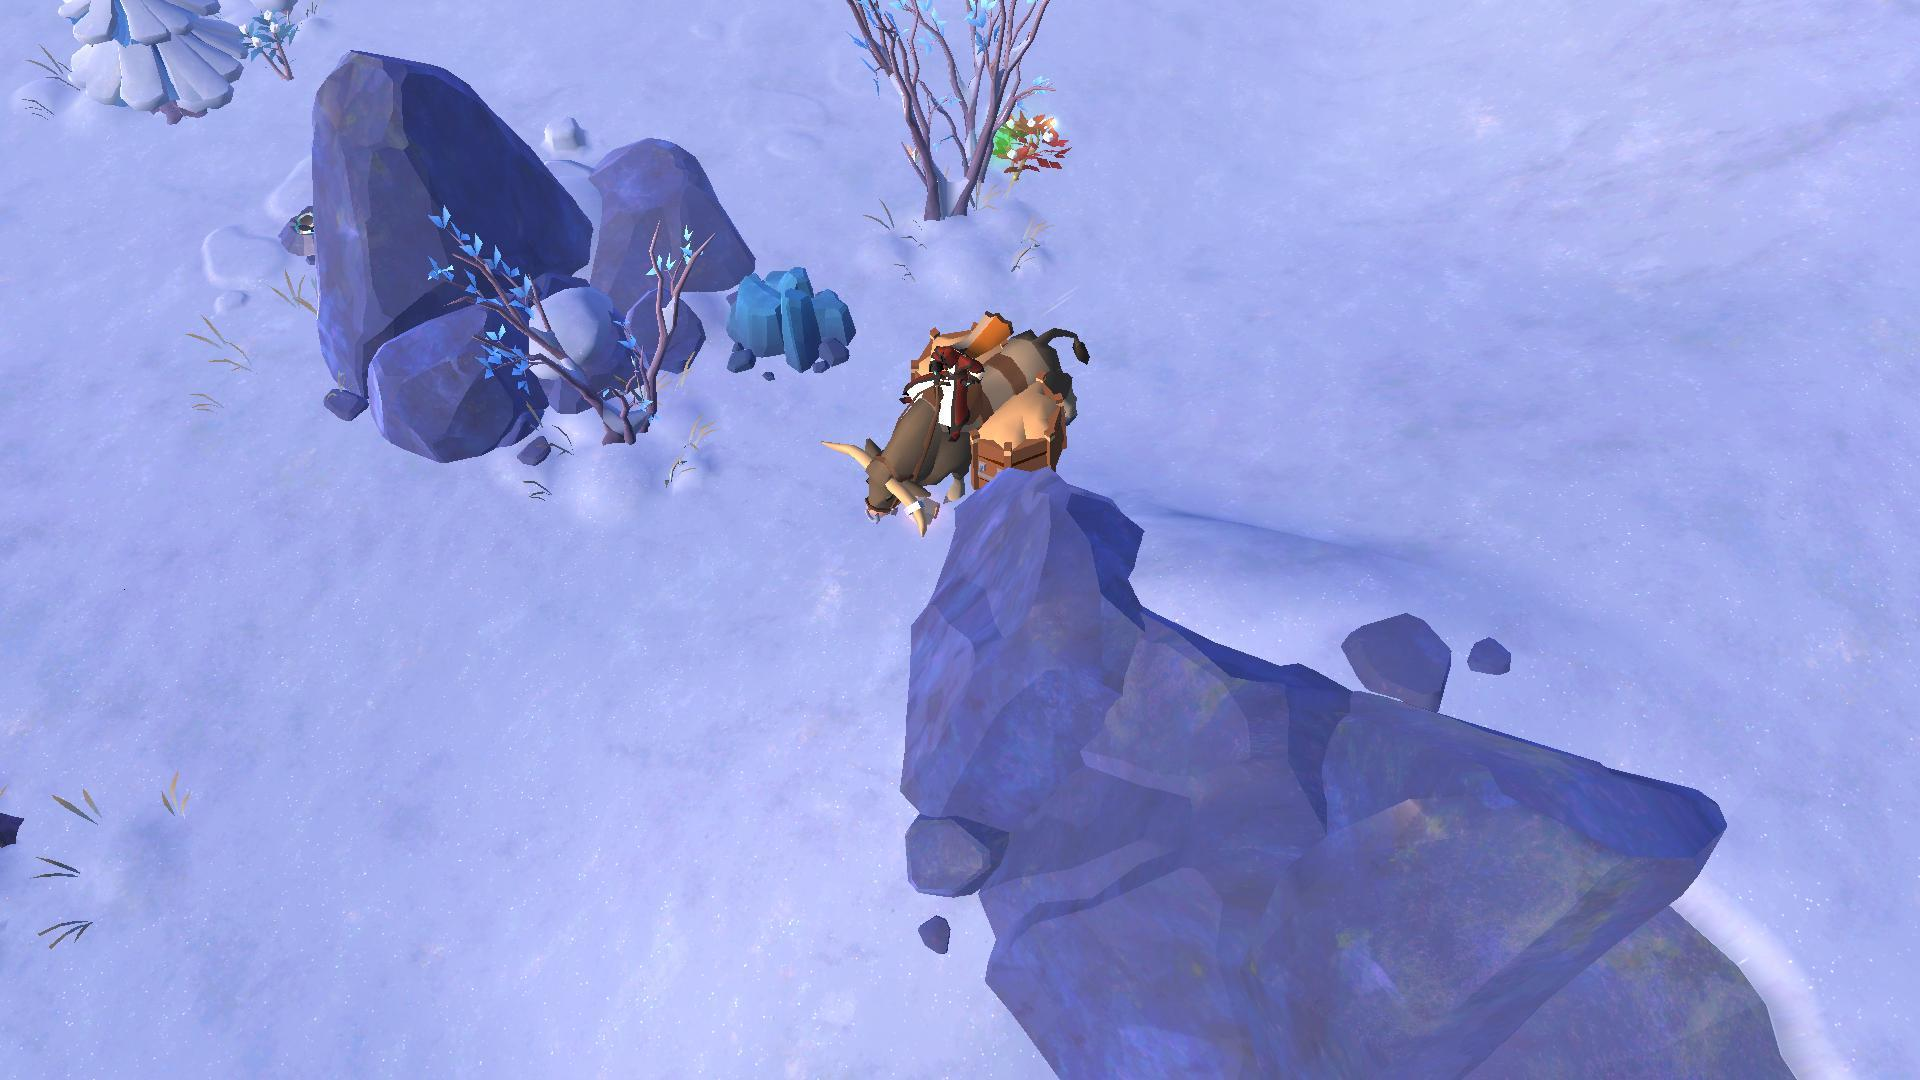fiber_t4: (224, 4, 298, 86)
fiber_t5: (997, 109, 1072, 179)
rock_t4: (717, 266, 856, 377)
